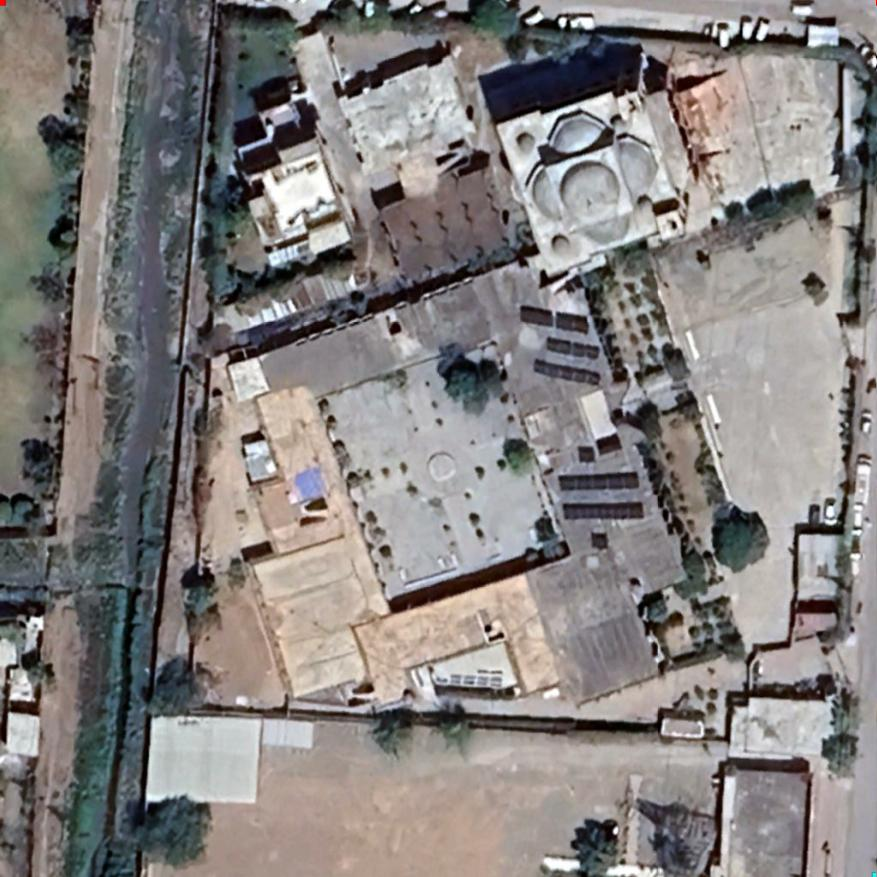Solarpanel: (516, 296, 592, 336), (527, 352, 601, 393), (557, 468, 642, 495), (540, 332, 599, 363), (561, 499, 648, 520), (575, 444, 601, 466)
